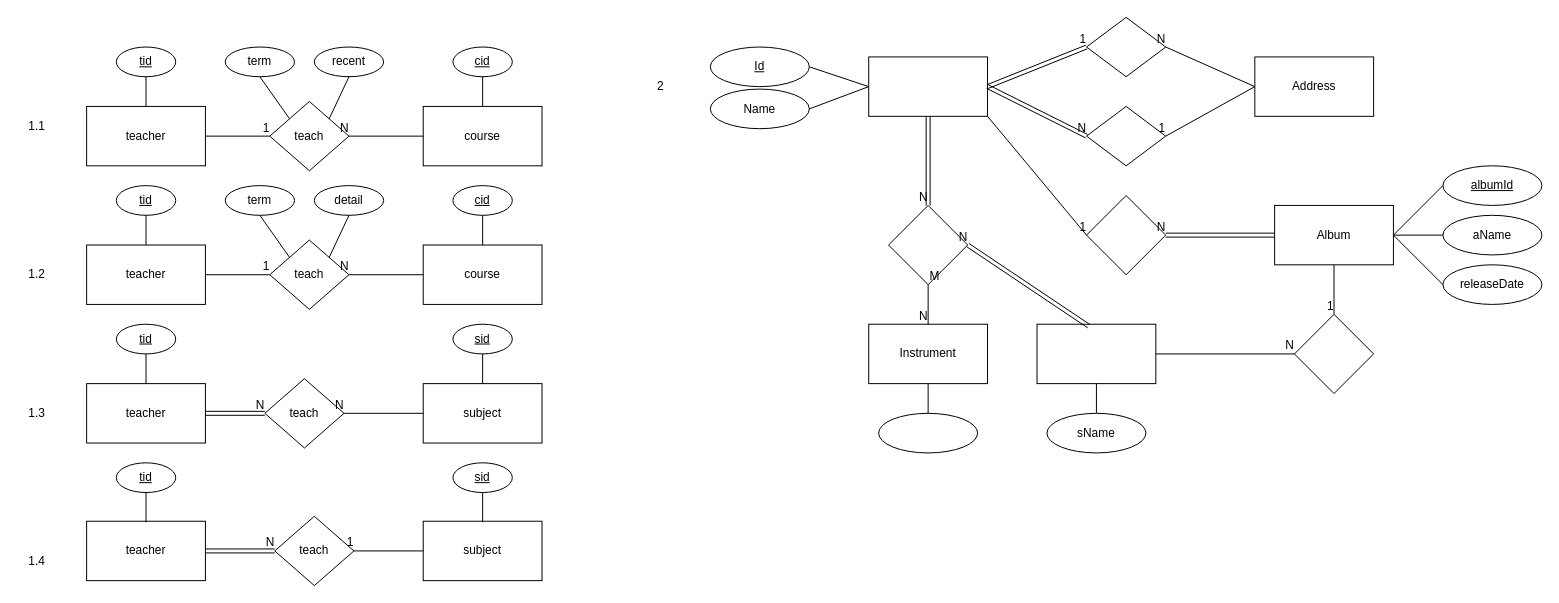
The diagram is 1559 pixels wide and 603 high, and some of its shapes have lost their labels. Each missing label, with the box of its shape:
Artist: (868, 56, 988, 116)
has: (1293, 313, 1374, 394)
iName: (878, 412, 978, 453)
Live by: (1086, 105, 1166, 166)
Live In: (1086, 16, 1166, 77)
Play: (888, 204, 968, 285)
Release: (1086, 195, 1166, 275)
Song: (1036, 323, 1156, 384)
